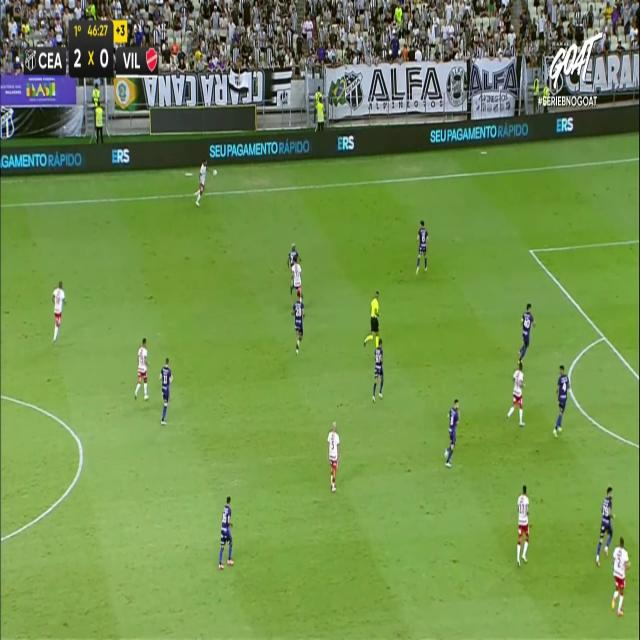ball: (211, 162, 221, 183)
player: (595, 486, 615, 567), (611, 535, 631, 616), (552, 364, 570, 438), (506, 360, 526, 426), (192, 149, 212, 210), (218, 495, 234, 569), (516, 484, 530, 567), (518, 303, 536, 366), (444, 398, 460, 467), (133, 337, 149, 400), (326, 421, 340, 492), (159, 356, 173, 424), (52, 280, 66, 343), (291, 292, 305, 354), (291, 254, 306, 309), (372, 337, 384, 402), (416, 220, 429, 275), (287, 239, 302, 269)
referee: (363, 290, 380, 349)
